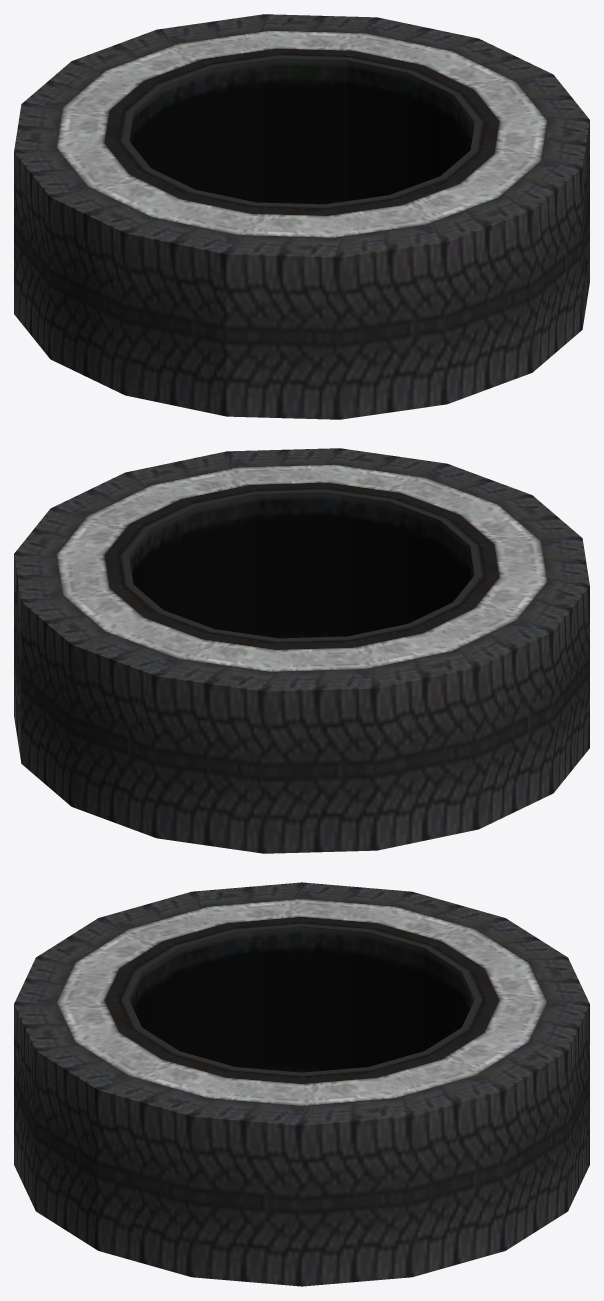
File: tire_single.fbx
3 renders of one model, top to bottom at view 1: azimuth 30°, elevation 25°; view 2: azimuth 150°, elevation 25°; view 3: azimuth 270°, elevation 25°, orthographic.
Visible parts, largest first — view 1: mesh_0; view 2: mesh_0; view 3: mesh_0.
Boxes of the visible parts, x1,y1,x2,y2 form: mesh_0: (14, 14, 589, 419); mesh_0: (14, 448, 589, 853); mesh_0: (14, 882, 589, 1286).
Size of the model in its own units: 62.97 by 19.94 by 62.97.
1 material, 1 textured.
